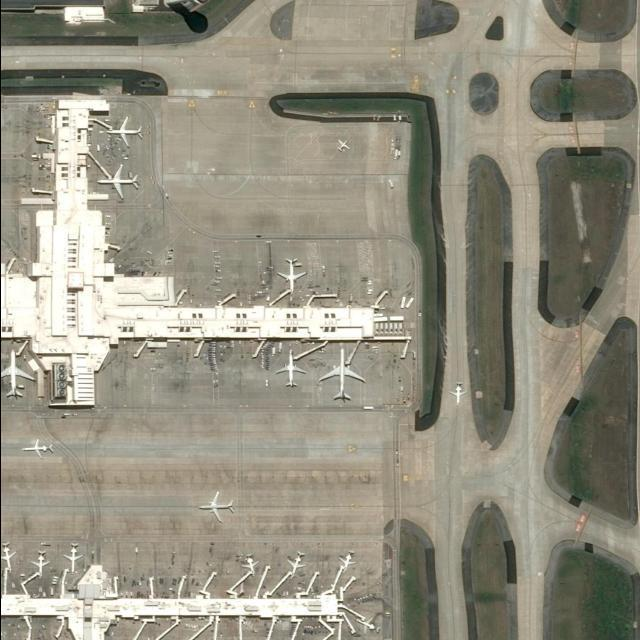Aircraft: (319, 349, 369, 403), (0, 350, 36, 400), (96, 163, 142, 201), (101, 114, 147, 148), (197, 492, 238, 526), (275, 255, 307, 298), (274, 351, 305, 390), (30, 546, 55, 580), (62, 541, 86, 575), (23, 438, 55, 460), (336, 547, 360, 574), (0, 542, 19, 575), (285, 551, 309, 577), (354, 614, 381, 635), (447, 382, 470, 406), (238, 552, 260, 577), (333, 138, 353, 154)
